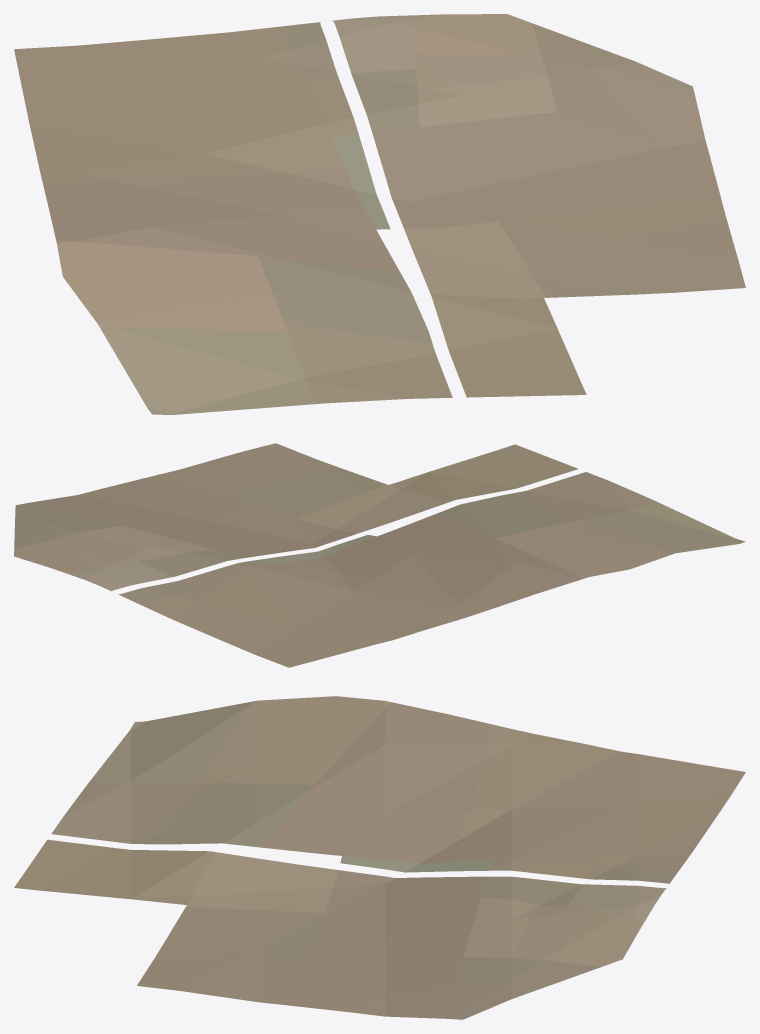
File: farm_16_4_soil.glb
3 views of the same model, one above another, from view 1: azimuth 30°, elevation 25°; view 2: azimuth 150°, elevation 25°; view 3: azimuth 270°, elevation 25° (orthographic). The views are drawn at different scales.
Visible parts, largest first — view 1: geometry_0; view 2: geometry_0; view 3: geometry_0.
Boxes of the visible parts, x1,y1,x2,y2 form: geometry_0: [14, 14, 745, 414]; geometry_0: [14, 443, 745, 667]; geometry_0: [14, 696, 745, 1019].
Size of the model in its own units: 455 by 41.21 by 462.
